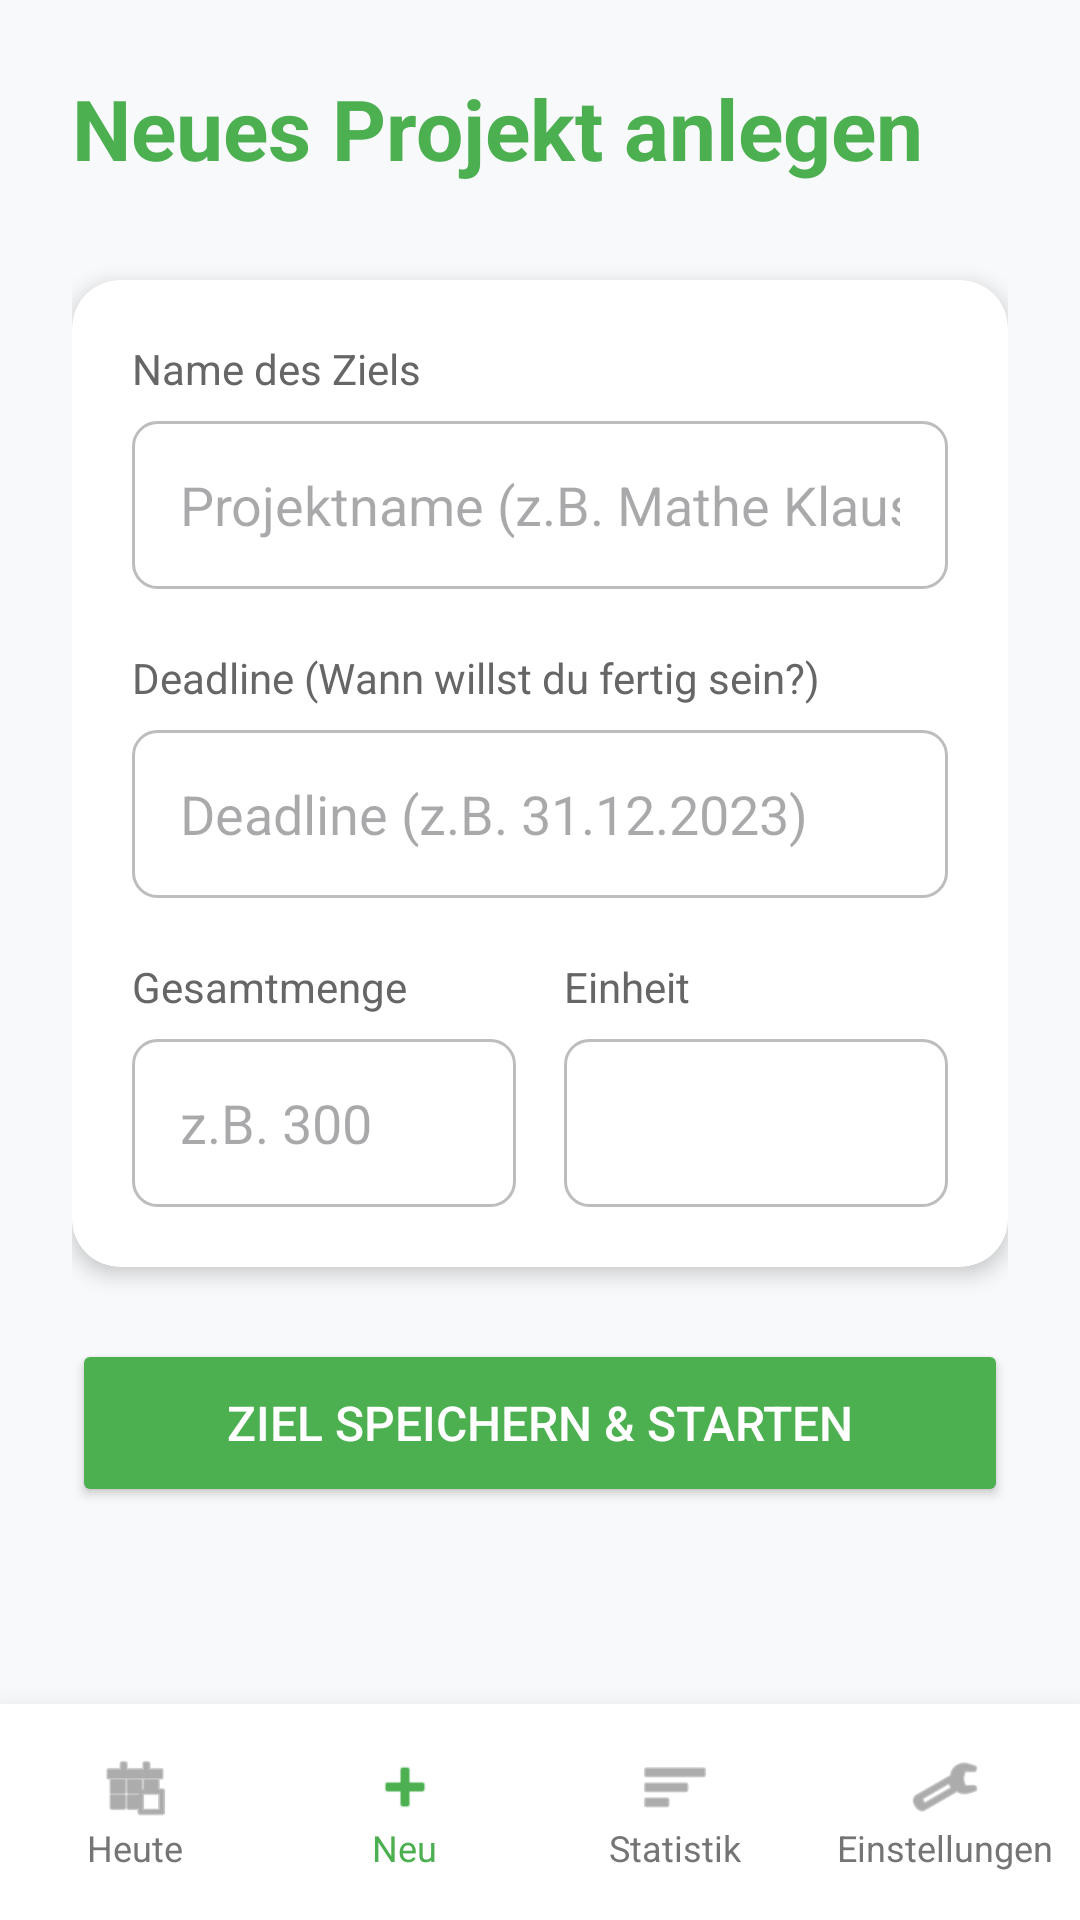

Icons on this 1080×1920 Android screen, each with the point to tap as (x,y):
manage: (945,1787)
Tagesplan: (135,1788)
Ziel hinzufügen: (405,1787)
